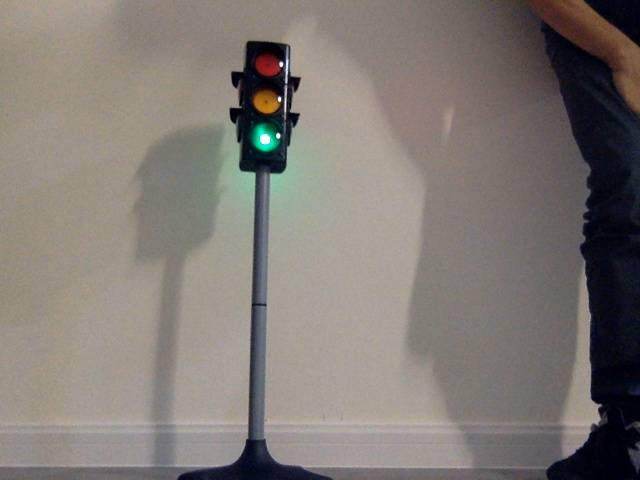green: (250, 50, 284, 156)
